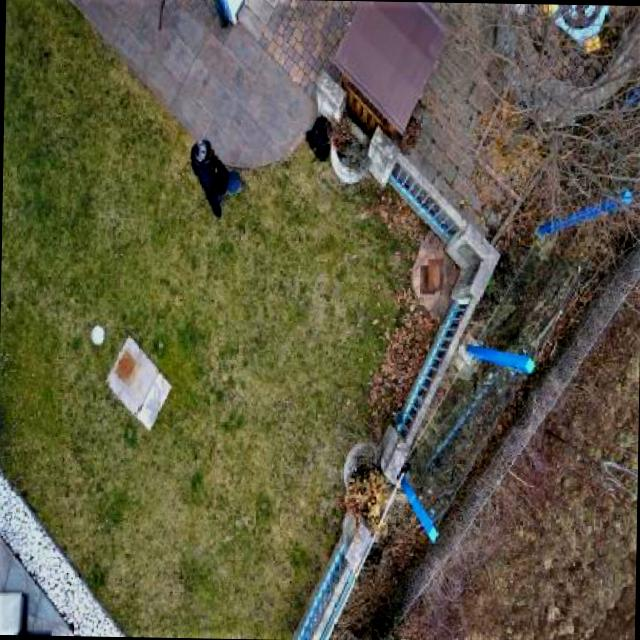Person: (188, 132, 250, 226)
